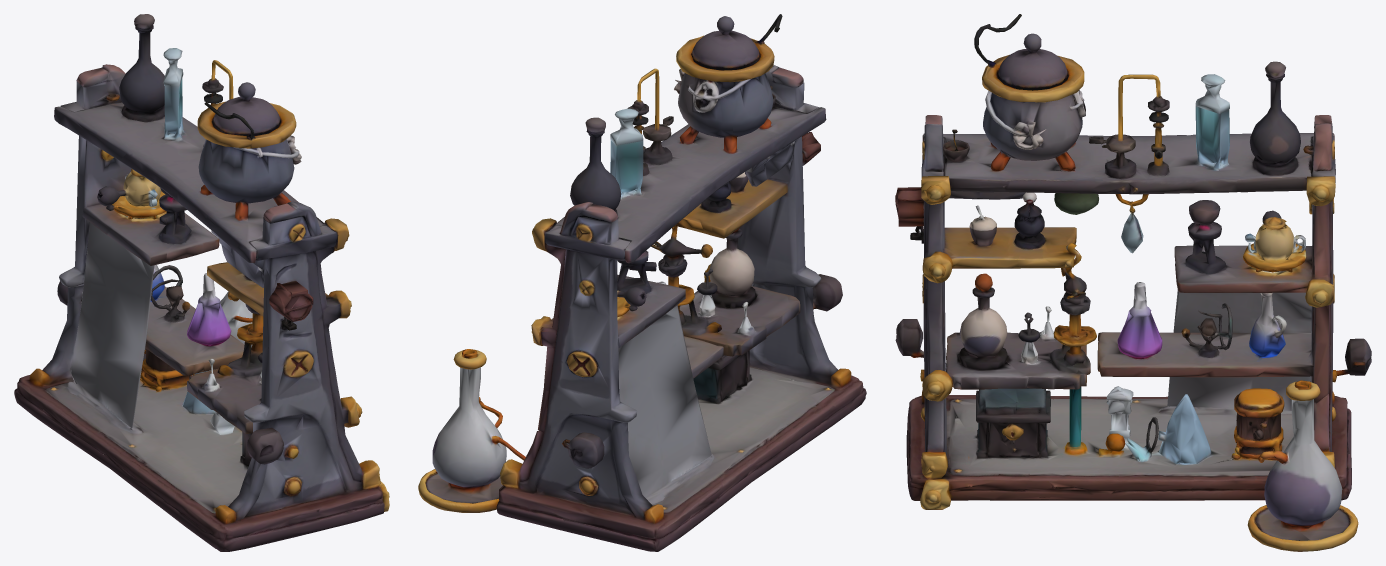
File: tripo_h31_fantasy_alchemy_lab_shelf_kit.glb
The picture shows the model from 3 angles, left to right: view 1: azimuth 30°, elevation 25°; view 2: azimuth 150°, elevation 25°; view 3: azimuth 270°, elevation 25°; orthographic projection. The views are drawn at different scales.
Parts seen in each view (by area): view 1: tripo_node_73becc84-9741-4a48-a9bf-bea1afcc3187; view 2: tripo_node_73becc84-9741-4a48-a9bf-bea1afcc3187; view 3: tripo_node_73becc84-9741-4a48-a9bf-bea1afcc3187.
Part boxes in pixels (<box>): tripo_node_73becc84-9741-4a48-a9bf-bea1afcc3187: <box>14,14,389,551</box>; tripo_node_73becc84-9741-4a48-a9bf-bea1afcc3187: <box>418,14,866,551</box>; tripo_node_73becc84-9741-4a48-a9bf-bea1afcc3187: <box>895,14,1371,551</box>.
Size of the model in its own units: 0.6375 by 0.978 by 0.9791.
Materials: 1 (1 with a texture image).
